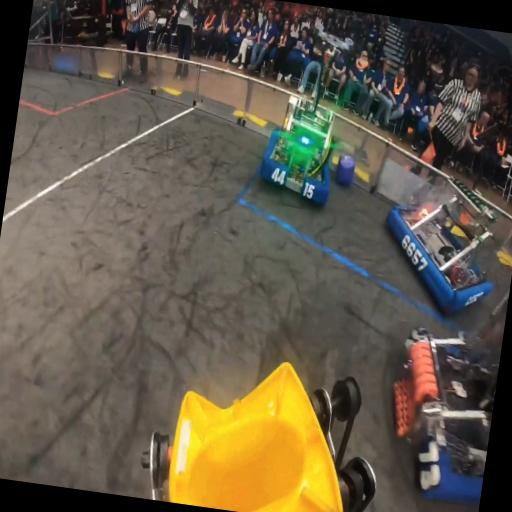robot: (378, 308, 505, 507), (375, 168, 509, 323), (256, 92, 343, 208)
